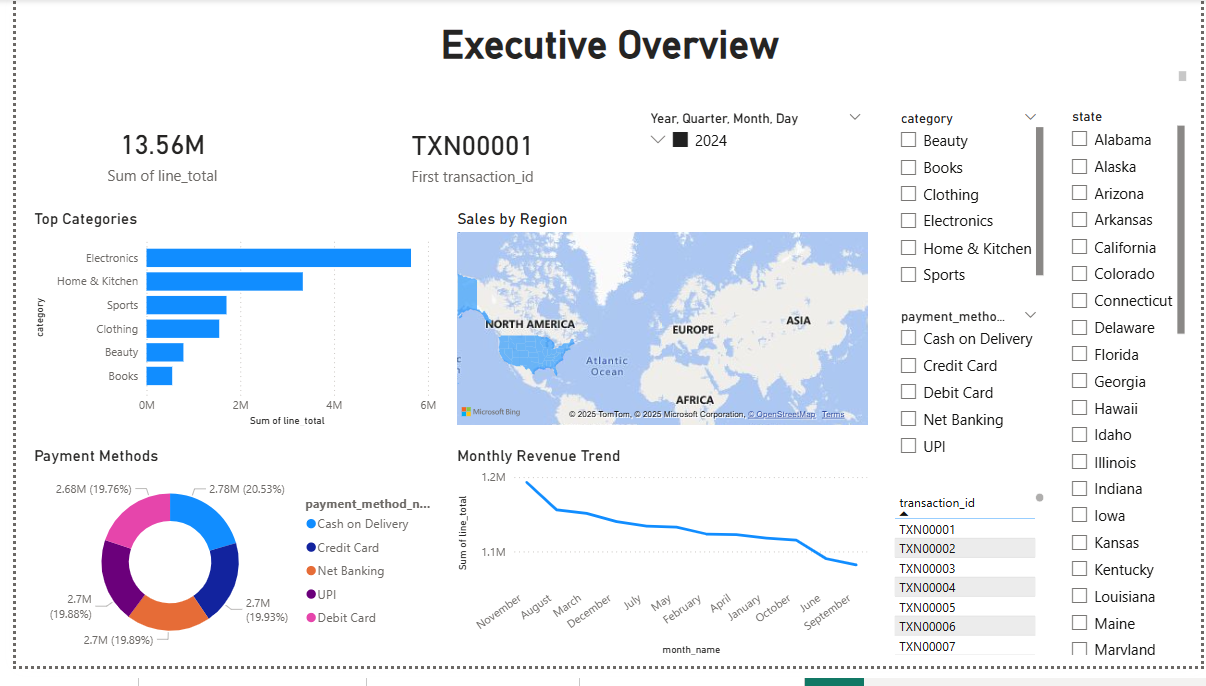

Layout of this report page (visuals, bound fields, positions):
{"tool":"powerbi","page":{"name":"Executive Overview","canvas":[1280,720],"ordinal":0},"visuals":[{"type":"textbox","title":"Executive Overview","box":[14.2,14.2,1253.7,79],"z":0},{"type":"card","fields":{"Values":["Sum(warehouse fact_sales.line_total)"]},"box":[14.3,112.9,286.3,105],"z":1000},{"type":"card","fields":{"Values":["Min(warehouse fact_sales.transaction_id)"]},"box":[330.8,114.5,324.5,103.4],"z":2000},{"type":"lineChart","title":"Monthly Revenue Trend","fields":{"Category":["warehouse dim_date.month_name"],"Y":["Sum(warehouse fact_sales.line_total)"]},"box":[470.8,482,453.3,230.6],"z":3000},{"type":"clusteredBarChart","title":"Top Categories","fields":{"Category":["warehouse dim_products.category"],"Y":["Sum(warehouse fact_sales.line_total)"]},"box":[14.3,227.5,443.8,238.6],"z":4000},{"type":"donutChart","title":"Payment Methods","fields":{"Category":["warehouse dim_payment_method.payment_method_name"],"Y":["Sum(warehouse fact_sales.line_total)"]},"box":[14.3,482,443.8,230.6],"z":5000},{"type":"filledMap","title":"Sales by Region","fields":{"Category":["warehouse dim_customers.state"]},"box":[470.8,227.5,453.3,238.6],"z":6000},{"type":"slicer","fields":{"Values":["warehouse dim_customers.state"]},"box":[1127.7,112.9,140,599.7],"z":7000},{"type":"slicer","fields":{"Values":["warehouse dim_date.full_date.Variation.Date Hierarchy.Year","warehouse dim_date.full_date.Variation.Date Hierarchy.Quarter","warehouse dim_date.full_date.Variation.Date Hierarchy.Month","warehouse dim_date.full_date.Variation.Date Hierarchy.Day"]},"box":[671.2,114.5,252.9,103.4],"z":8000},{"type":"slicer","fields":{"Values":["warehouse dim_products.category"]},"box":[941.6,114.5,171.8,200.4],"z":9000},{"type":"slicer","fields":{"Values":["warehouse dim_payment_method.payment_method_name"]},"box":[941.6,329.3,171.8,181.3],"z":10000},{"type":"tableEx","fields":{"Values":["warehouse fact_sales.transaction_id"]},"box":[942,528,172,185],"z":11000}]}

Visuals, with their boxes in screenshot pixels (x1, y1, x2, y2), scaled from the page's 1280x720 canvas onto the 1206x686 screenshot:
"Executive Overview" textbox: {"left": 13, "top": 14, "right": 1195, "bottom": 89}
card - Sum(warehouse fact_sales.line_total): {"left": 13, "top": 108, "right": 283, "bottom": 208}
card - Min(warehouse fact_sales.transaction_id): {"left": 312, "top": 109, "right": 617, "bottom": 208}
"Monthly Revenue Trend" lineChart: {"left": 444, "top": 459, "right": 871, "bottom": 679}
"Top Categories" clusteredBarChart: {"left": 13, "top": 217, "right": 432, "bottom": 444}
"Payment Methods" donutChart: {"left": 13, "top": 459, "right": 432, "bottom": 679}
"Sales by Region" filledMap: {"left": 444, "top": 217, "right": 871, "bottom": 444}
slicer - warehouse dim_customers.state: {"left": 1063, "top": 108, "right": 1194, "bottom": 679}
slicer - warehouse dim_date.full_date.Variation.Date Hierarchy.Year x warehouse dim_date.full_date.Variation.Date Hierarchy.Quarter: {"left": 632, "top": 109, "right": 871, "bottom": 208}
slicer - warehouse dim_products.category: {"left": 887, "top": 109, "right": 1049, "bottom": 300}
slicer - warehouse dim_payment_method.payment_method_name: {"left": 887, "top": 314, "right": 1049, "bottom": 486}
tableEx - warehouse fact_sales.transaction_id: {"left": 888, "top": 503, "right": 1050, "bottom": 679}
